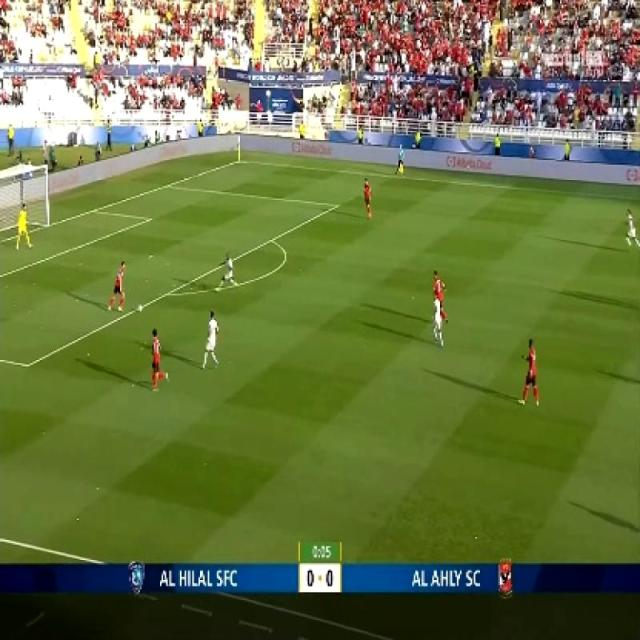bigarea_bottom_inner: (17, 350, 35, 376)
bigarea_top_inner: (328, 198, 342, 212)
bigarea_top_outter: (160, 178, 174, 192)
bottom_arc_area_intersection: (160, 283, 175, 300)
corner: (231, 154, 246, 164)
smallarea_top_inner: (141, 210, 154, 225)
smallarea_top_outter: (85, 202, 100, 216)
top_arc_area_intersection: (263, 231, 277, 246)
